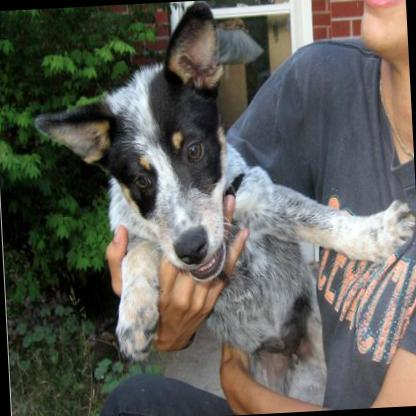kelpie: (25, 0, 416, 416)
